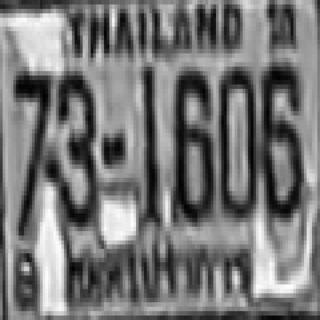N00: (216, 62, 256, 218)
N01: (141, 64, 157, 220)
N03: (51, 67, 99, 227)
N06: (259, 58, 301, 218), (171, 67, 211, 218)
N07: (12, 65, 52, 229), (12, 67, 52, 182)
P57: (62, 238, 260, 311)
